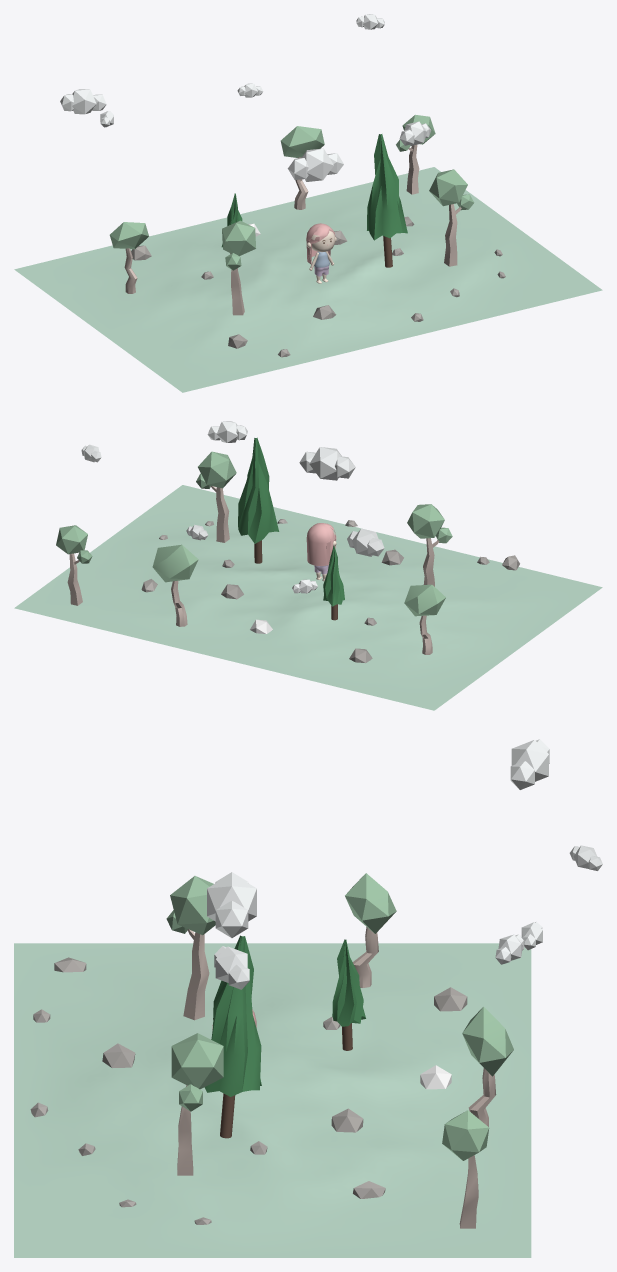
File: momo_aframe.gltf
3 views of the same model, one above another, from view 1: azimuth 30°, elevation 25°; view 2: azimuth 150°, elevation 25°; view 3: azimuth 270°, elevation 25° (orthographic). The views are drawn at different scales.
Parts seen in each view (by area): view 1: Landscape, Platonic (×4), Cone, Platonic.1 (×2), Cube, Sphere.1; view 2: Landscape, Platonic (×5), Cone (×2), Cube (×3), Platonic.1 (×2), Sphere.1, Cylinder.1; view 3: Landscape, Platonic (×5), Cone (×2), Cube (×3), Platonic.1 (×3), Cylinder.1 (×2), Platonic.2.
Boxes of the visible parts, x1=… form: Landscape: x1=14, y1=167, x2=602, y2=392; Platonic (×4): x1=109, y1=126, x2=467, y2=256; Cone: x1=367, y1=134, x2=407, y2=240; Platonic.1 (×2): x1=72, y1=89, x2=333, y2=181; Cube: x1=444, y1=204, x2=461, y2=266; Sphere.1: x1=306, y1=223, x2=335, y2=264; Landscape: x1=14, y1=485, x2=602, y2=710; Platonic (×5): x1=56, y1=451, x2=445, y2=616; Cone (×2): x1=238, y1=437, x2=344, y2=606; Cube (×3): x1=67, y1=486, x2=439, y2=605; Platonic.1 (×2): x1=309, y1=447, x2=378, y2=556; Sphere.1: x1=306, y1=523, x2=336, y2=566; Cylinder.1: x1=171, y1=580, x2=187, y2=626; Landscape: x1=14, y1=943, x2=531, y2=1257; Platonic (×5): x1=170, y1=873, x2=513, y2=1160; Cone (×2): x1=204, y1=935, x2=365, y2=1096; Cube (×3): x1=177, y1=929, x2=478, y2=1228; Platonic.1 (×3): x1=207, y1=740, x2=548, y2=982; Cylinder.1 (×2): x1=352, y1=927, x2=496, y2=1126; Platonic.2: x1=215, y1=901, x2=248, y2=937.
Size of the model in its own units: 2430 by 973 by 1923.
